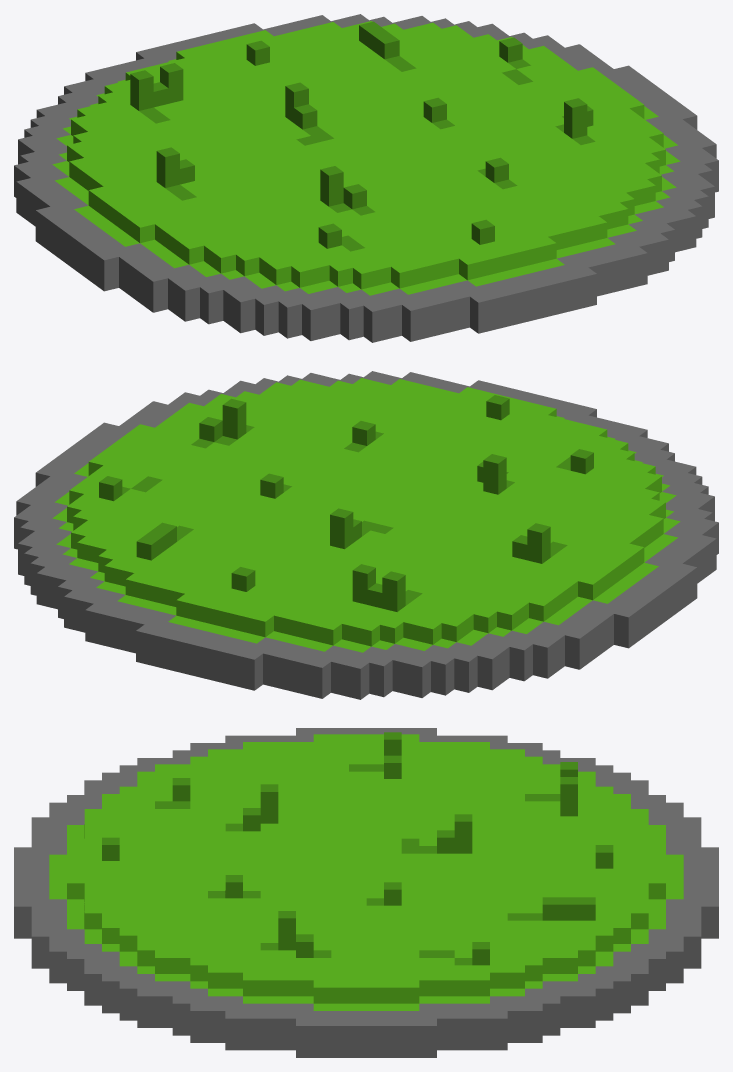
File: Grass Holder.fbx
The picture shows the model from 3 angles, top to bottom: view 1: azimuth 30°, elevation 25°; view 2: azimuth 150°, elevation 25°; view 3: azimuth 270°, elevation 25°; orthographic projection. The views are drawn at different scales.
Parts seen in each view (by area): view 1: Grass Holder; view 2: Grass Holder; view 3: Grass Holder.
Boxes of the visible parts, <box> form: Grass Holder: <box>14,14,718,342</box>; Grass Holder: <box>14,371,718,699</box>; Grass Holder: <box>14,728,718,1057</box>.
Bounding box in the file's own units: 400 × 50 × 400.
